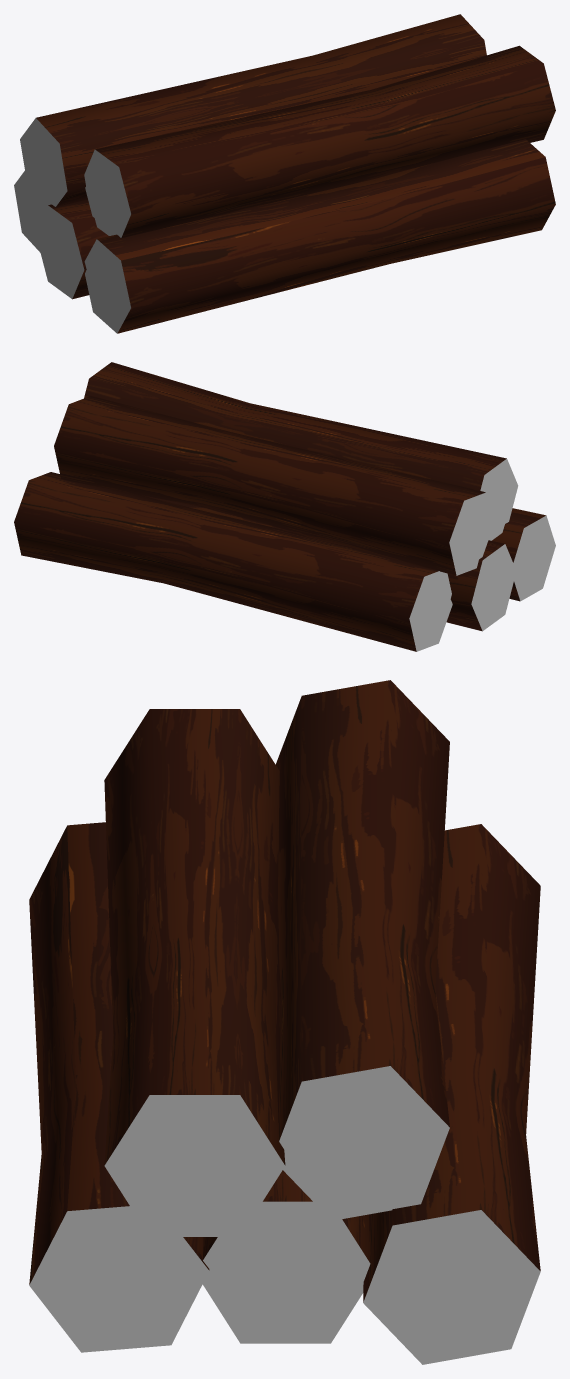
Rendered from SM_PROP_treetrunk_01.fbx.
The picture shows the model from 3 angles, top to bottom: view 1: azimuth 30°, elevation 25°; view 2: azimuth 150°, elevation 25°; view 3: azimuth 270°, elevation 25°; orthographic projection. The views are drawn at different scales.
Visible parts, largest first — view 1: SM_PROP_treetrunk_01; view 2: SM_PROP_treetrunk_01; view 3: SM_PROP_treetrunk_01.
Boxes of the visible parts, x1,y1,x2,y2 form: SM_PROP_treetrunk_01: [14, 14, 555, 333]; SM_PROP_treetrunk_01: [14, 362, 555, 651]; SM_PROP_treetrunk_01: [29, 680, 540, 1364].
Size of the model in its own units: 484 by 160 by 257.
